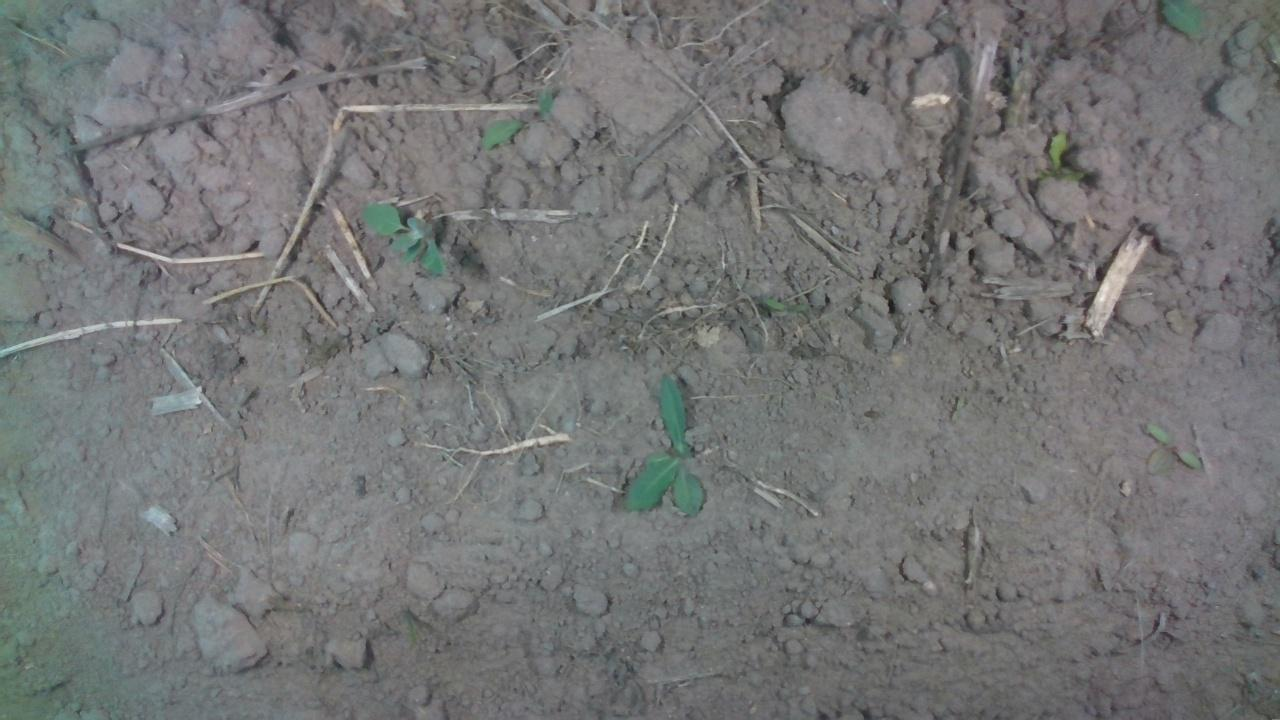weed: (622, 371, 706, 518), (356, 199, 445, 276), (1142, 418, 1202, 478), (762, 296, 810, 310)
